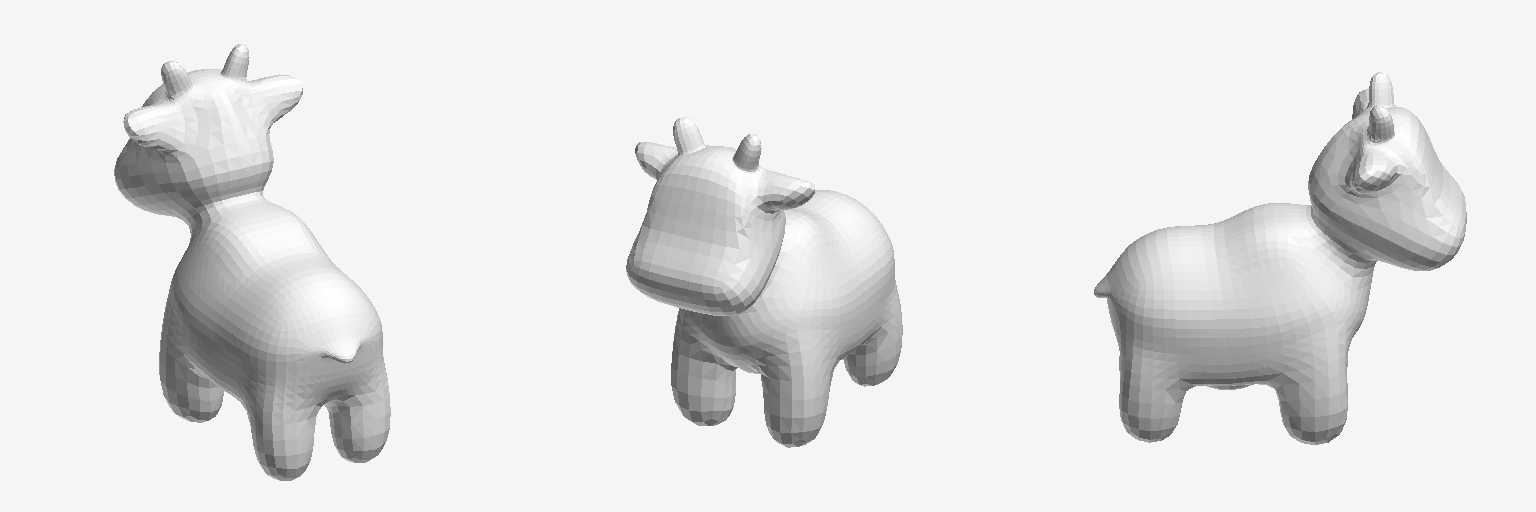
Rendered from spot.obj.
3 views of the same model, side by side, from view 1: azimuth 30°, elevation 25°; view 2: azimuth 150°, elevation 25°; view 3: azimuth 270°, elevation 25° (orthographic).
Visible parts, largest first — view 1: Spot; view 2: Spot; view 3: Spot.
Boxes of the visible parts, x1,y1,x2,y2 form: Spot: [114, 44, 390, 480]; Spot: [626, 117, 902, 447]; Spot: [1094, 72, 1466, 444].
Size of the model in its own units: 0.9431 by 1.69 by 1.72.